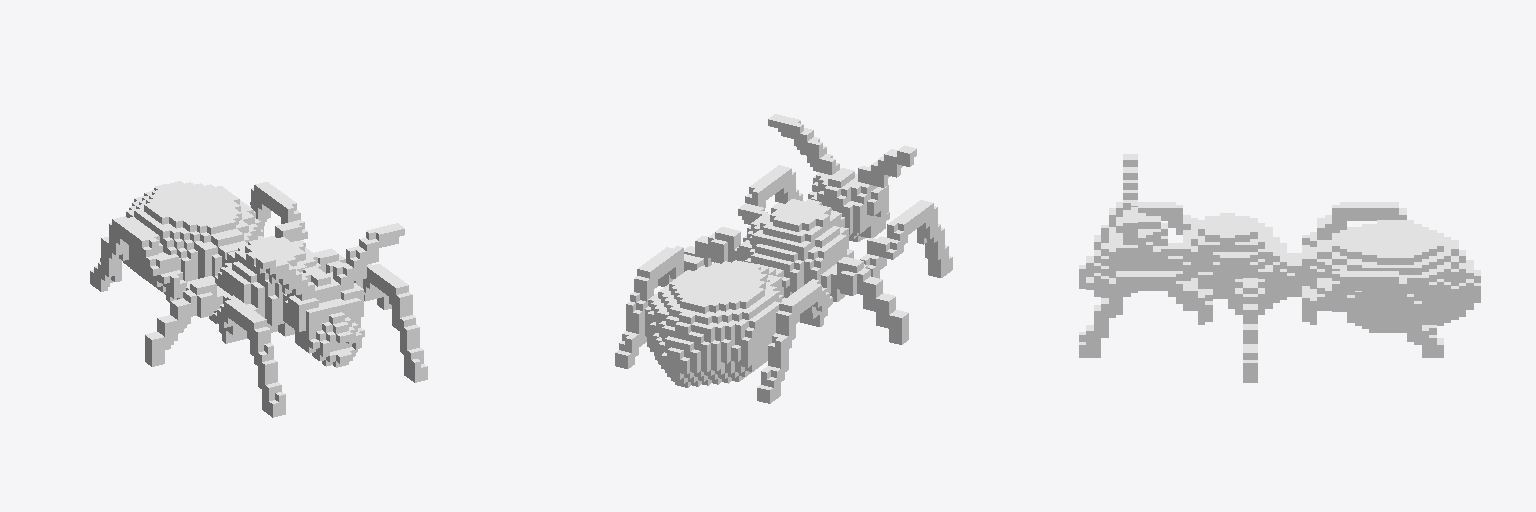
File: ant_spawn_v1-4.obj
3 views of the same model, side by side, from view 1: azimuth 30°, elevation 25°; view 2: azimuth 150°, elevation 25°; view 3: azimuth 270°, elevation 25° (orthographic).
Visible parts, largest first — view 1: object 1; view 2: object 1; view 3: object 1.
Part boxes in pixels (left/top/right/bottom): object 1: left=90, top=181, right=427, bottom=417; object 1: left=615, top=114, right=952, bottom=403; object 1: left=1079, top=154, right=1480, bottom=382.
Size of the model in its own units: 3.8 by 2 by 5.4.